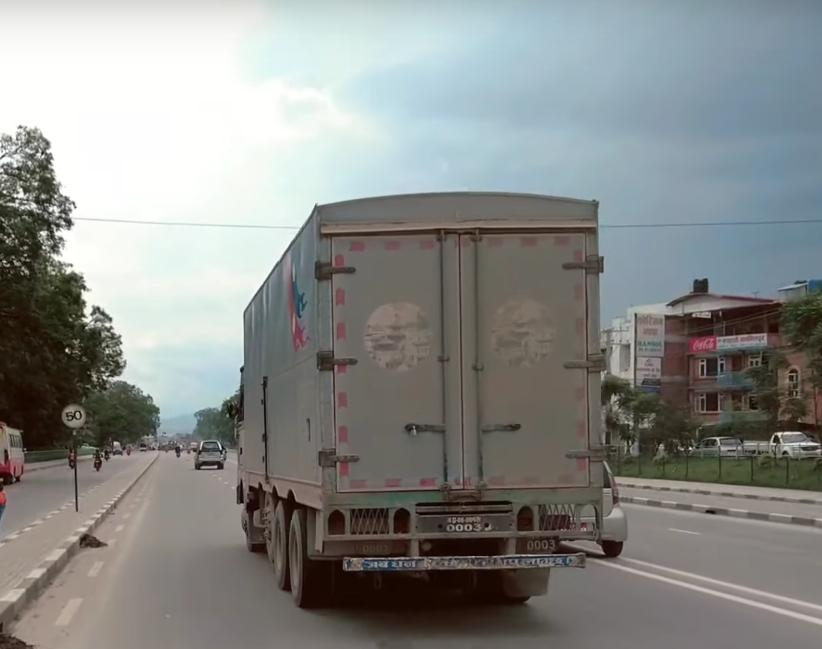bus: (0, 420, 28, 488)
truck: (232, 190, 625, 608)
